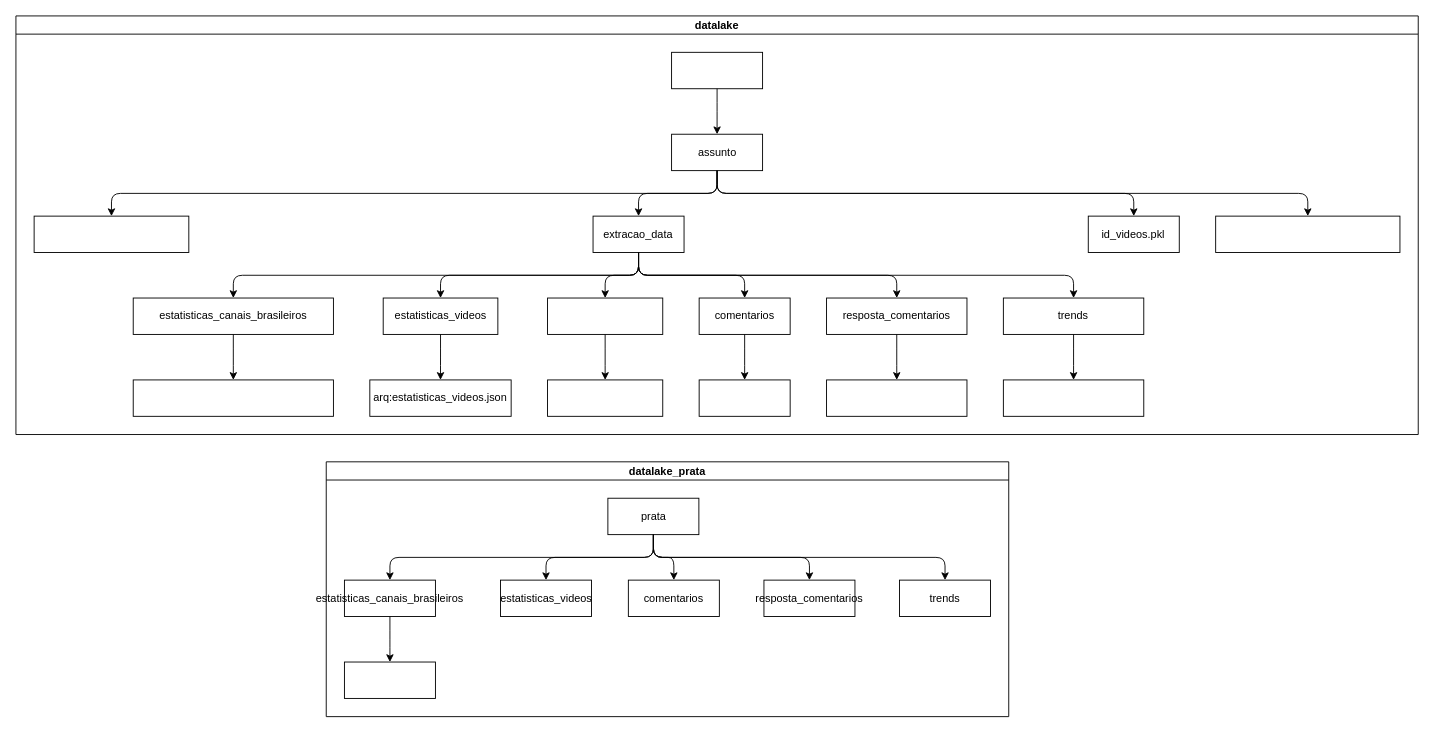
The diagram is 1434 pixels wide and 733 high, and some of its shapes have lost their labels. The centre of each missing label's shape, as x and y in pixels:
arq: ids_canais_brasileiros.pkl: point 111,234
arq:estatisticas_canais_brasileiros.json: point 232,397
arq:req_historico.json: point 605,397
bronze: point 717,70
comentarios.json: point 744,397
historico_pesquisa: point 605,315
id_resposta_comentarios.json: point 1307,234
resposta_comentarios.json: point 896,397
trends.json: point 1073,397
